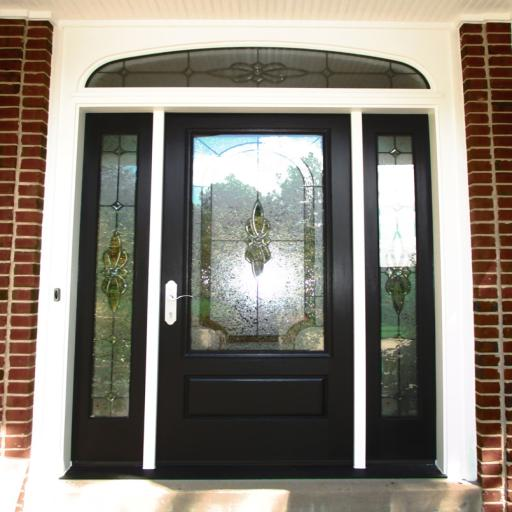Door: (156, 112, 353, 469)
